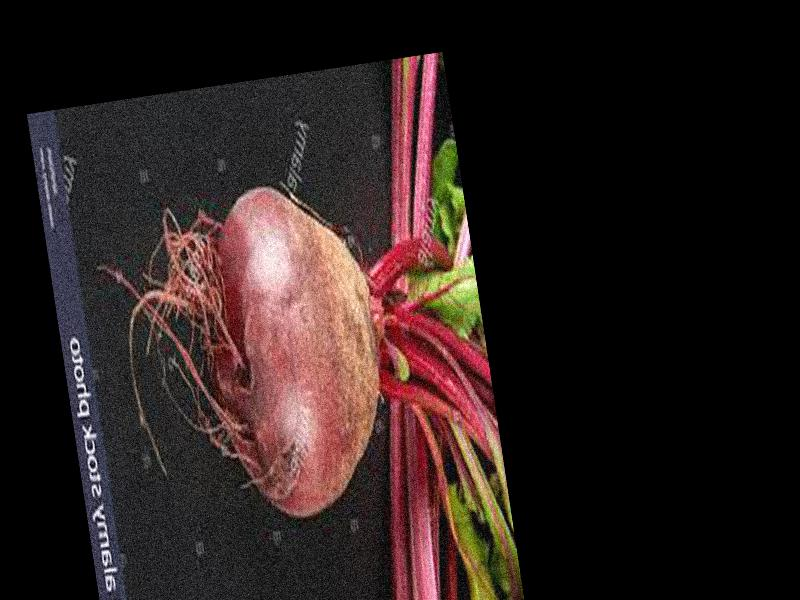Beet: (90, 155, 522, 600)
